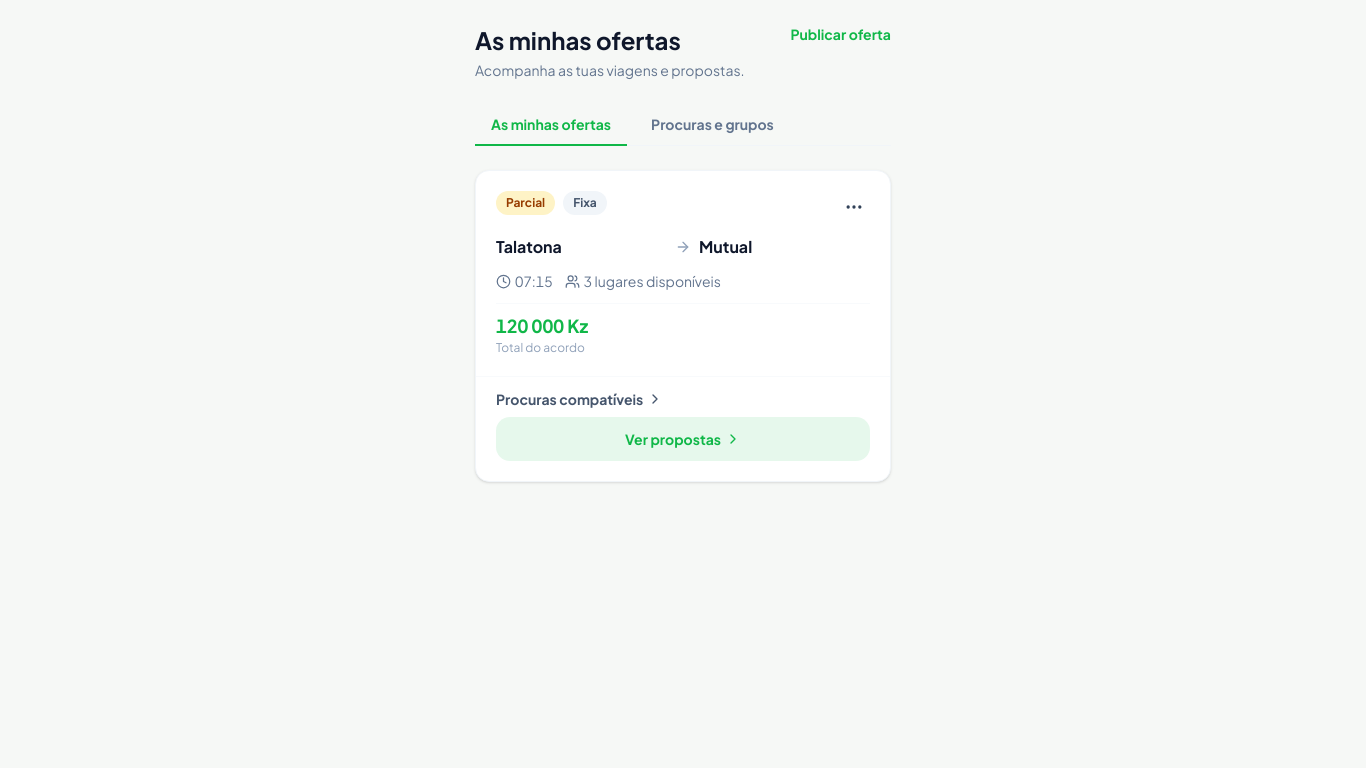
Test: DriverDashboard — marketplace › ao mudar de oferta limpa reviews anteriores e não mostra empty falso durante o carregamento
The width and height of the screenshot is (1366, 768).
Expected: the text "Talatona" is shown, [496,236,562,257]
Click the button "Ver propostas".
click(683, 439)  # box [496,417,870,461]
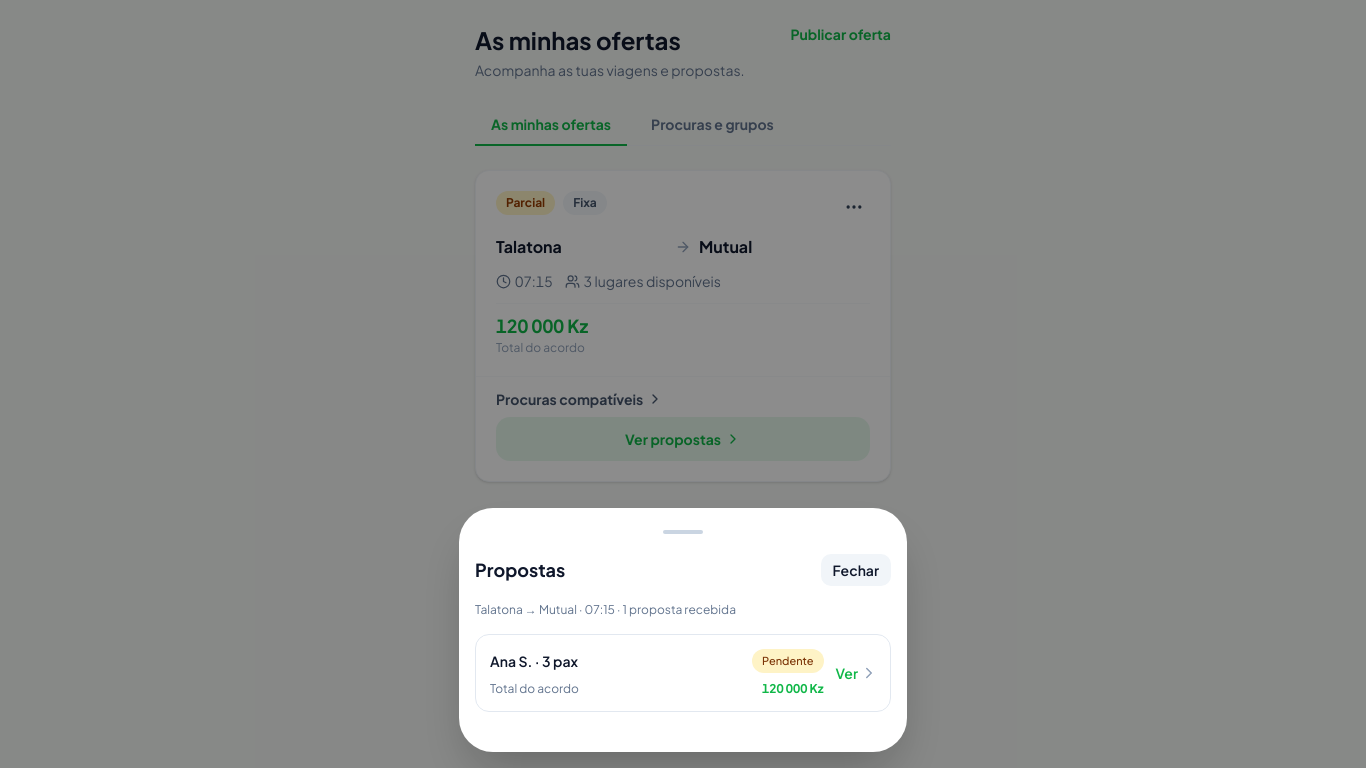
Now the button with aria-label "Ver proposta Ana S." is shown, box [475,634,891,712]
